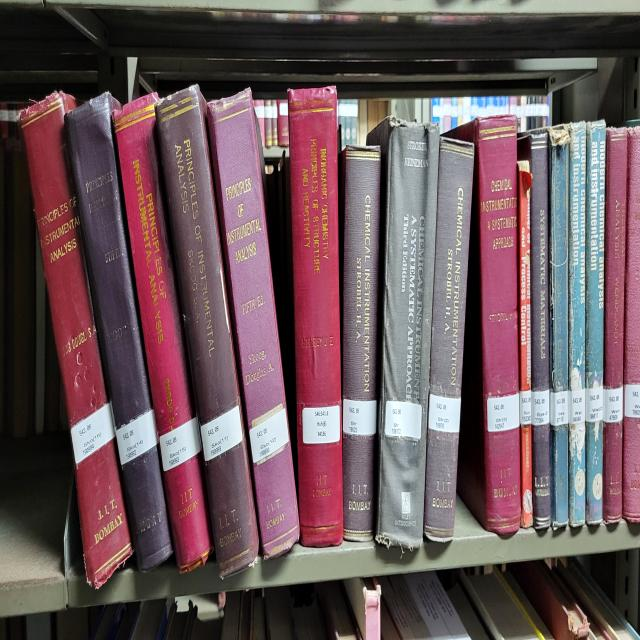Book: (20, 92, 131, 587), (65, 92, 172, 571), (156, 87, 259, 576), (112, 92, 212, 571), (208, 89, 300, 557), (441, 116, 521, 536), (368, 116, 440, 549), (289, 87, 344, 547), (424, 138, 474, 541), (342, 146, 381, 541), (518, 130, 551, 530), (602, 127, 628, 522), (585, 119, 606, 525), (549, 127, 570, 530), (622, 127, 640, 522), (569, 122, 586, 528), (518, 160, 534, 528)
Label: (71, 403, 115, 465), (249, 403, 289, 463), (116, 409, 158, 465), (201, 406, 242, 463), (159, 417, 201, 471), (302, 406, 340, 444), (385, 400, 421, 438), (488, 392, 520, 433), (342, 398, 376, 436), (429, 395, 461, 433), (550, 390, 569, 427), (602, 387, 622, 422), (531, 390, 550, 425), (585, 387, 602, 422), (569, 390, 585, 425), (624, 384, 640, 419), (519, 390, 531, 425)
